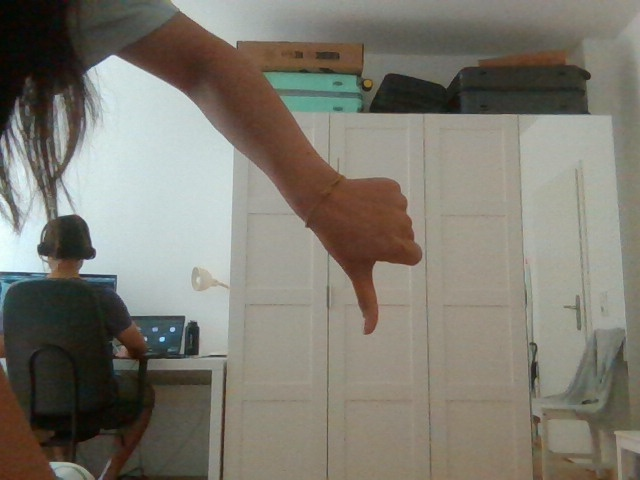thumbs_down: (302, 136, 434, 341)
